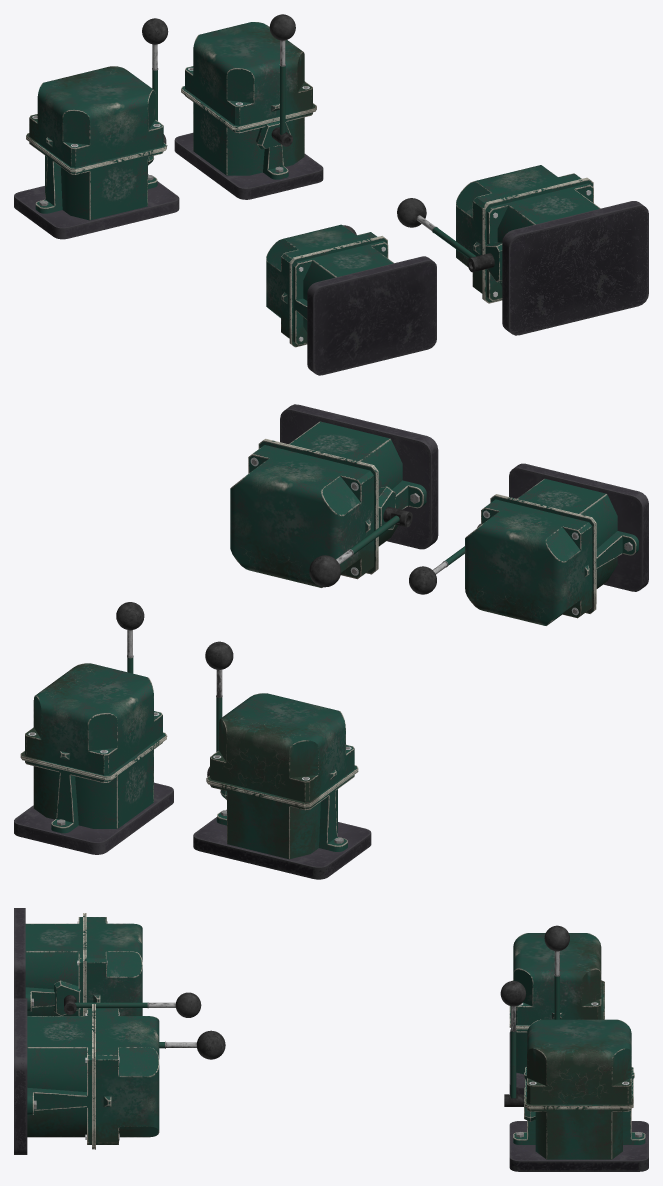
Rendered from Cabine_Levers.fbx.
3 renders of one model, top to bottom at view 1: azimuth 30°, elevation 25°; view 2: azimuth 150°, elevation 25°; view 3: azimuth 270°, elevation 25°, orthographic. The views are drawn at different scales.
Parts seen in each view (by area): view 1: Cylinder.061, Cylinder.063, Cylinder.074, Cylinder.057, Cylinder.062, Cylinder.058, Cylinder.064; view 2: Cylinder.061, Cylinder.063, Cylinder.074, Cylinder.057, Cylinder.062, Cylinder.064, Cylinder.058, Cylinder.075; view 3: Cylinder.061, Cylinder.057, Cylinder.074, Cylinder.063, Cylinder.058, Cylinder.075, Cylinder.064, Cylinder.062.
Part boxes in pixels (x1,y1,x2,y2): Cylinder.061: [456, 165, 648, 335]; Cylinder.063: [14, 66, 179, 239]; Cylinder.074: [266, 224, 436, 375]; Cylinder.057: [174, 22, 323, 199]; Cylinder.062: [397, 198, 494, 272]; Cylinder.058: [269, 14, 295, 146]; Cylinder.064: [142, 18, 168, 143]; Cylinder.061: [230, 404, 438, 587]; Cylinder.063: [193, 693, 371, 879]; Cylinder.074: [465, 463, 648, 625]; Cylinder.057: [14, 663, 173, 854]; Cylinder.062: [309, 506, 412, 587]; Cylinder.064: [205, 641, 233, 776]; Cylinder.058: [116, 602, 144, 673]; Cylinder.075: [409, 523, 480, 594]; Cylinder.061: [14, 998, 159, 1154]; Cylinder.057: [509, 1019, 648, 1171]; Cylinder.074: [14, 908, 142, 1015]; Cylinder.063: [509, 933, 604, 1094]; Cylinder.058: [500, 981, 526, 1106]; Cylinder.075: [64, 992, 201, 1017]; Cylinder.064: [544, 925, 569, 1019]; Cylinder.062: [159, 1030, 225, 1059].
Size of the model in its own units: 90.03 by 45.94 by 151.
